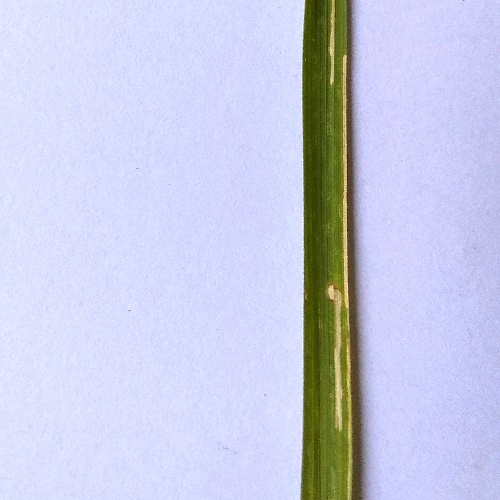Busuk Leher: (322, 280, 350, 435), (342, 53, 352, 314), (325, 1, 339, 86)
